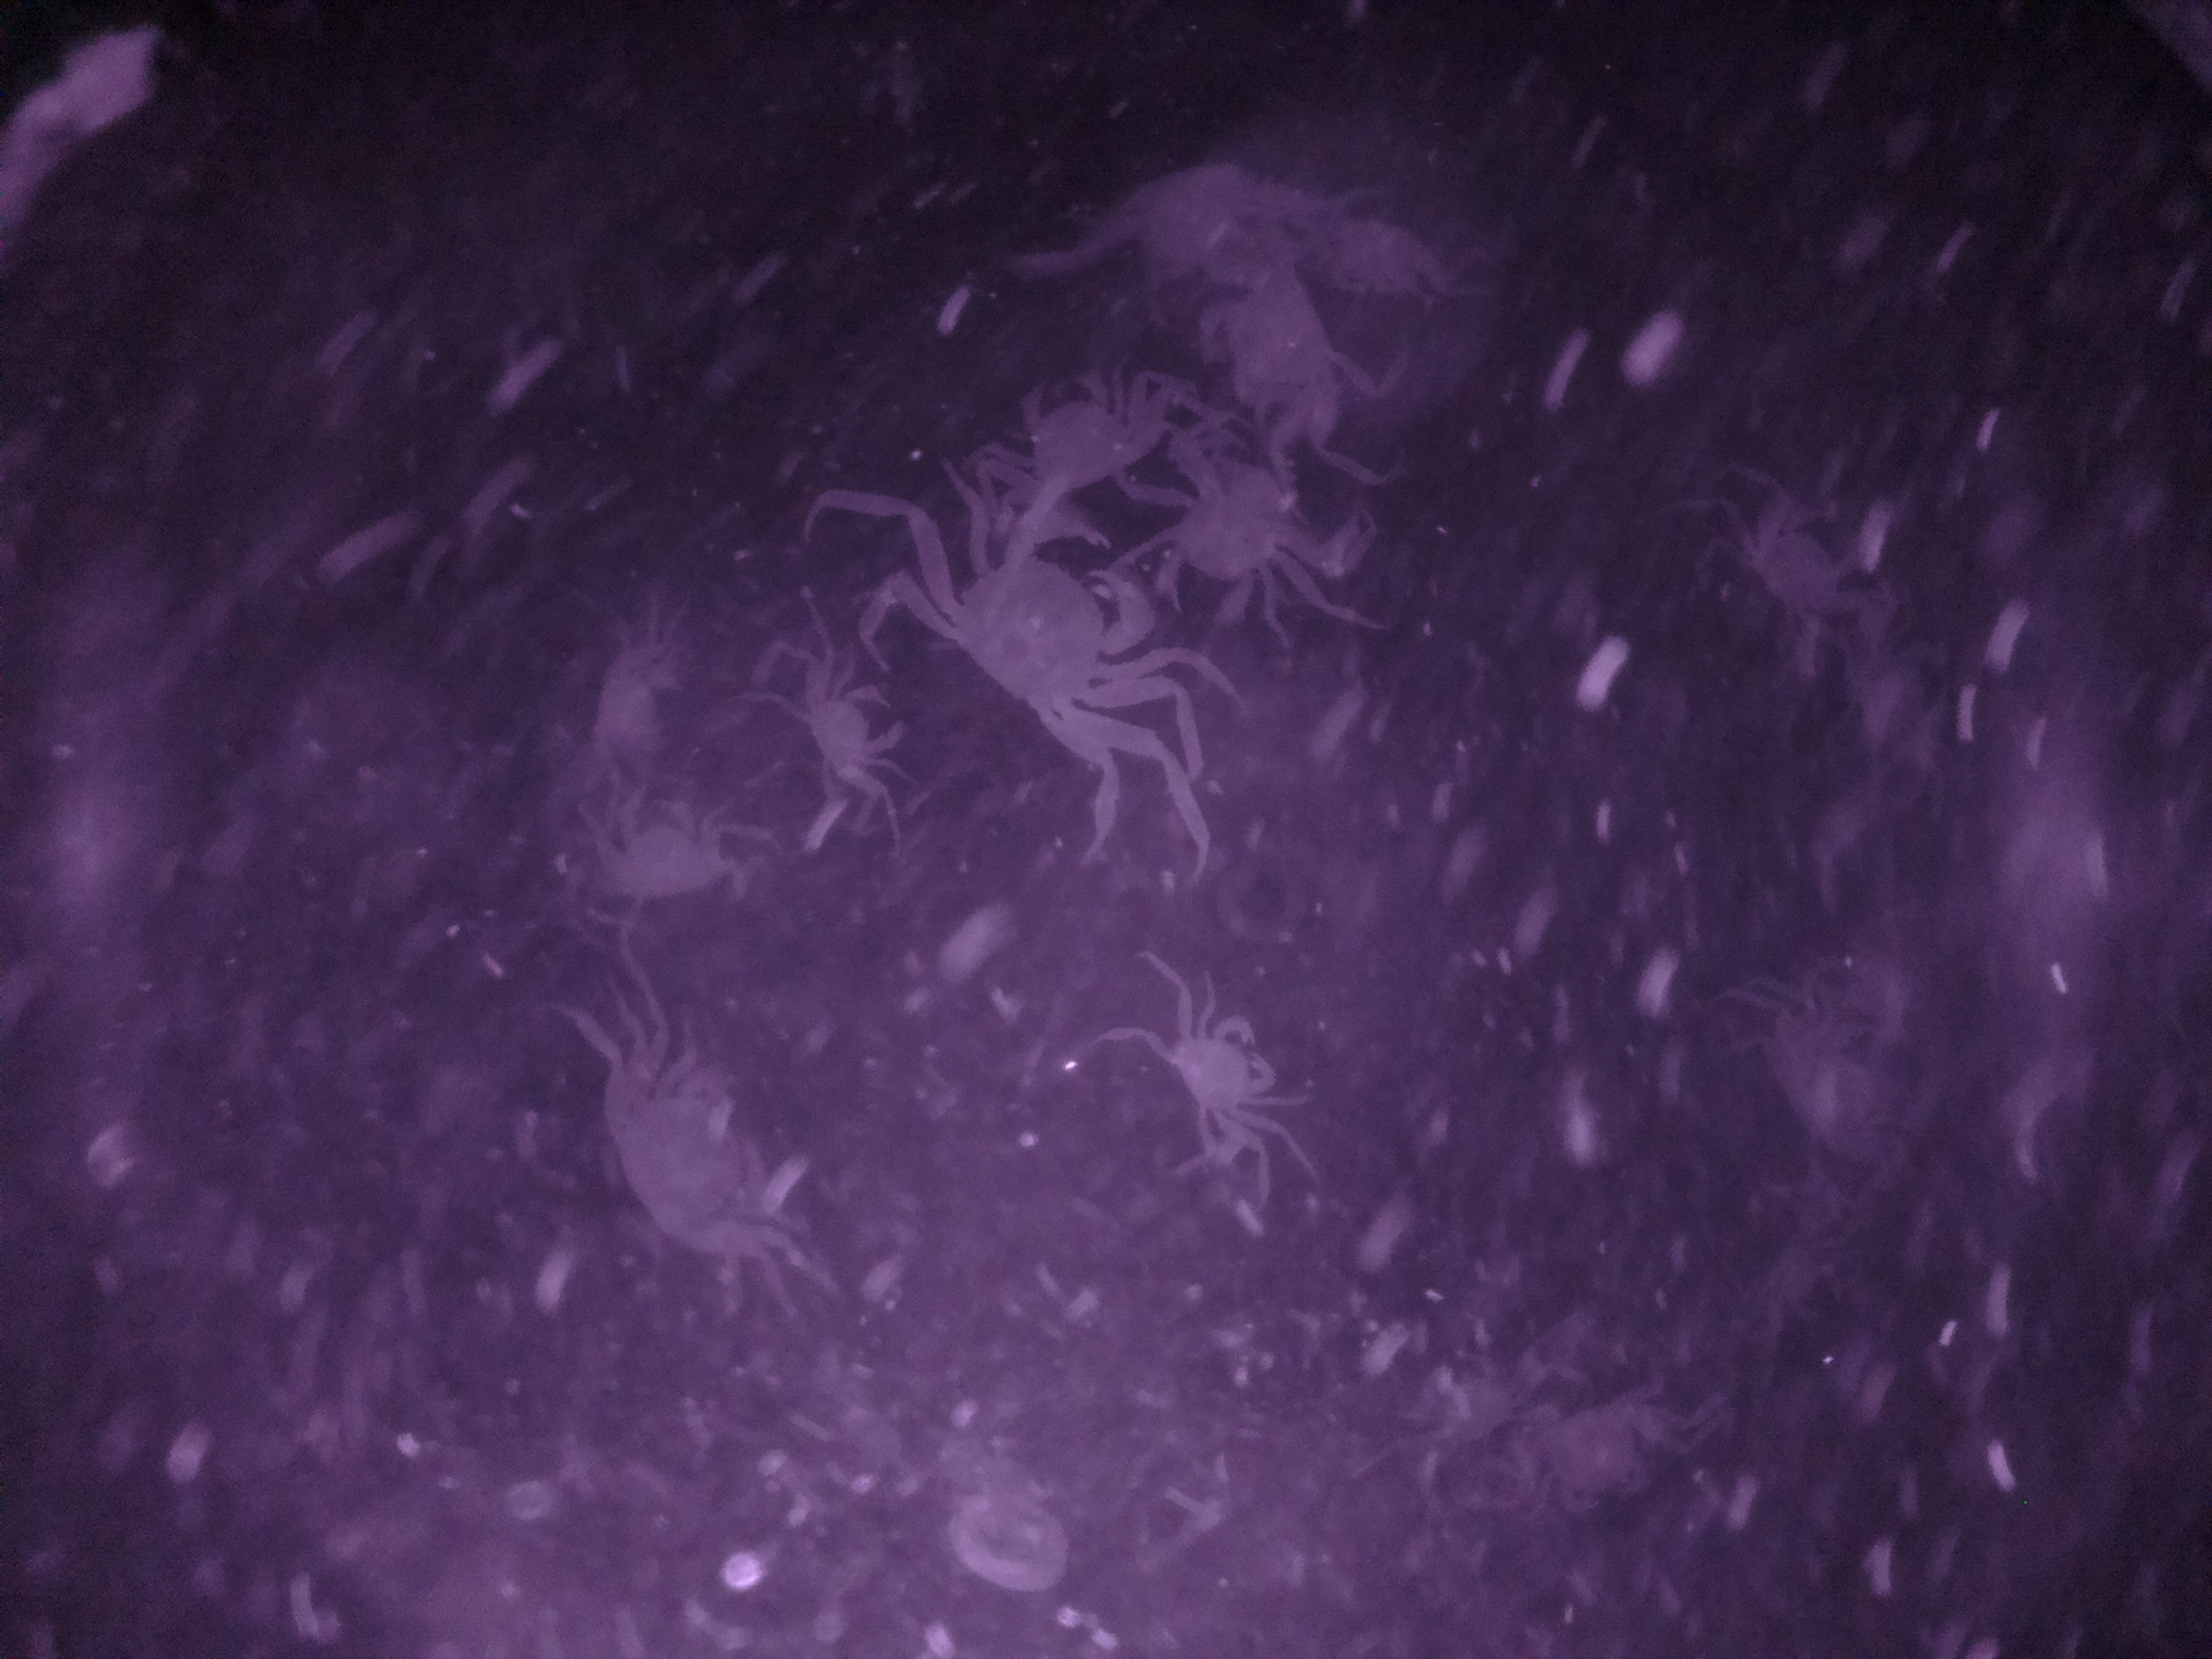Crab: (918, 488, 1172, 777), (557, 1026, 779, 1272), (1146, 971, 1303, 1183), (991, 366, 1179, 504), (777, 660, 900, 803)
